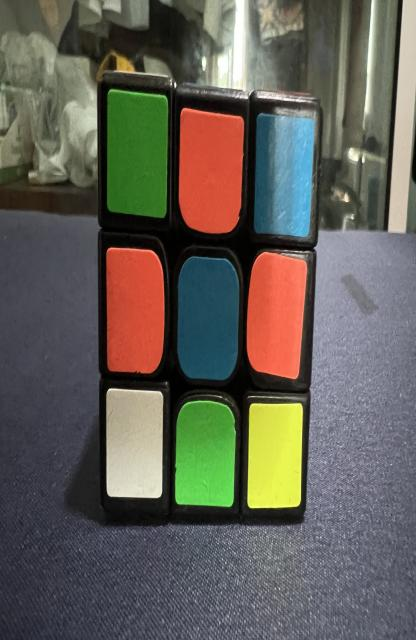Blue: (177, 257, 240, 380), (254, 113, 314, 237)
Green: (106, 88, 168, 218), (175, 400, 236, 507)
Orange: (179, 108, 244, 233), (247, 252, 307, 378), (106, 247, 165, 373)
White: (106, 388, 163, 498)
Yellow: (247, 403, 303, 508)
